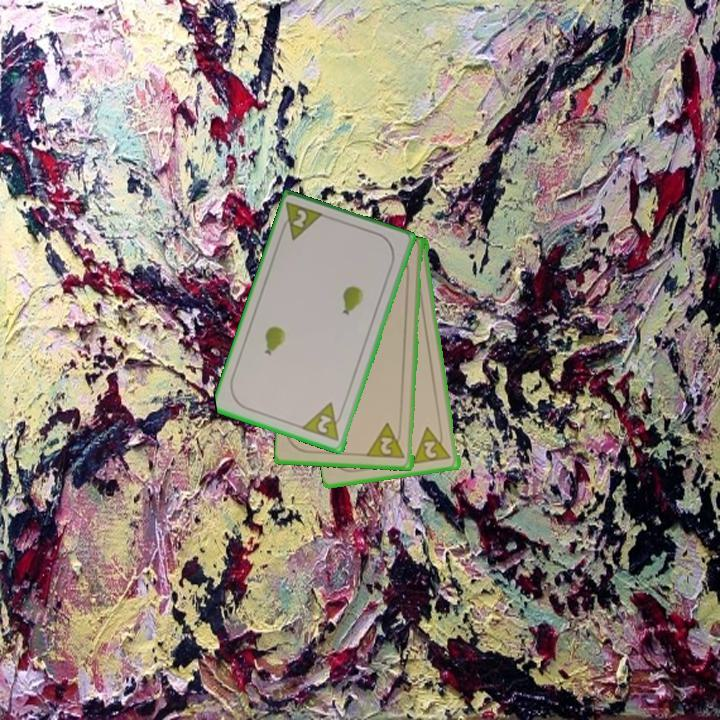2p: (278, 199, 328, 244), (299, 399, 347, 445), (411, 422, 454, 467), (377, 434, 396, 458)
